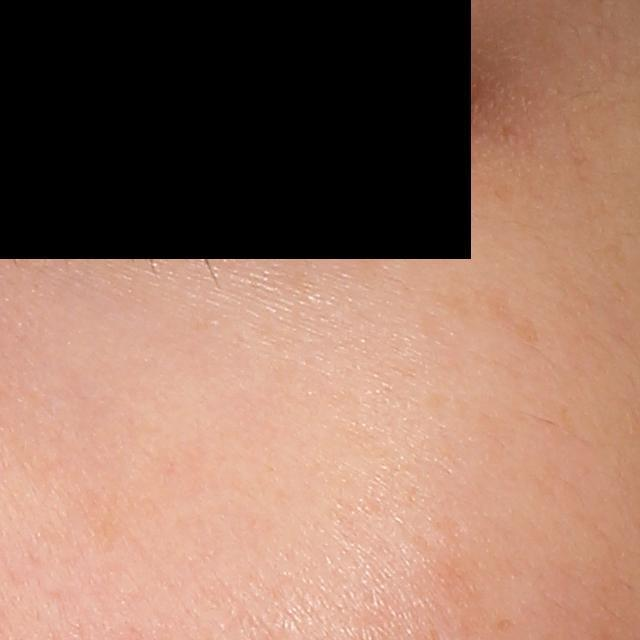melasma: (421, 283, 548, 348)
